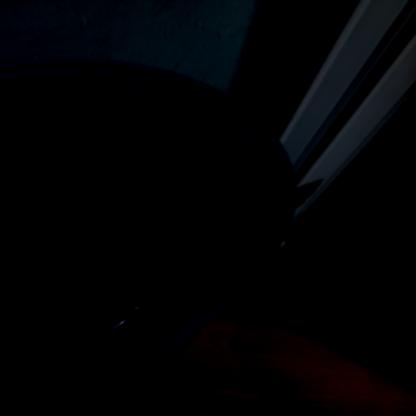pen: (37, 172, 328, 378)
